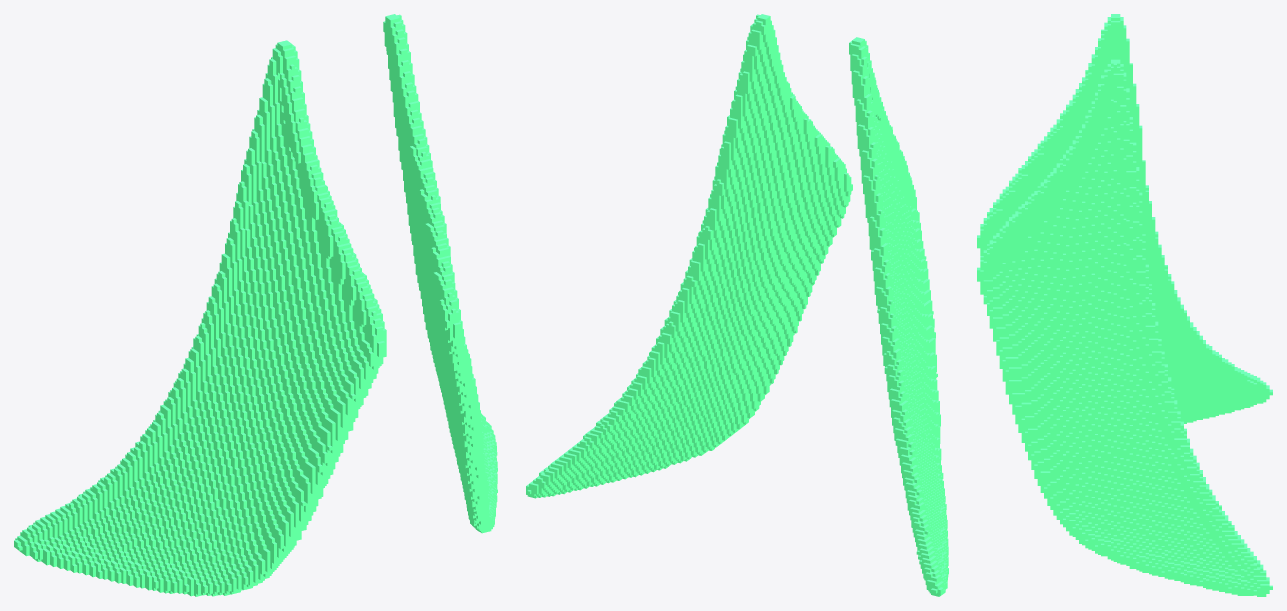
File: green.gltf
3 views of the same model, side by side, from view 1: azimuth 30°, elevation 25°; view 2: azimuth 150°, elevation 25°; view 3: azimuth 270°, elevation 25° (orthographic). The views are drawn at different scales.
Parts seen in each view (by area): view 1: 翅膀.1; view 2: 翅膀.1; view 3: 翅膀.1.
Part boxes in pixels (x1,y1,x2,y2): 翅膀.1: [14, 14, 497, 596]; 翅膀.1: [526, 14, 948, 596]; 翅膀.1: [977, 14, 1272, 596].
Size of the model in its own units: 17.88 by 19.2 by 11.16.
